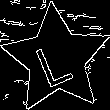L_NW: (33, 30, 80, 88)
